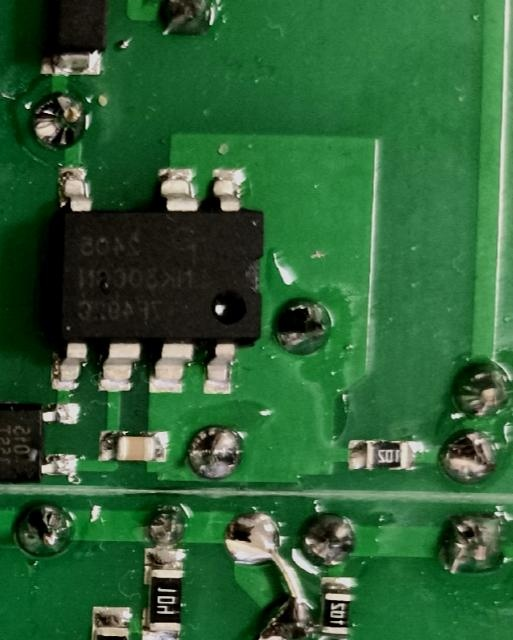chip-capacitor: (98, 431, 169, 461)
chip-resistor: (140, 546, 187, 640), (346, 435, 419, 473), (317, 572, 355, 640)
diode: (40, 0, 109, 79)
ic: (49, 164, 266, 396)
